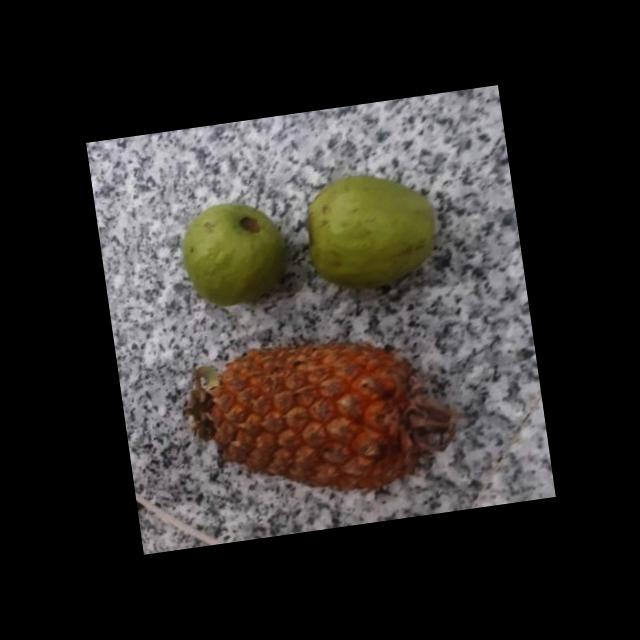guava: (304, 159, 441, 299), (174, 190, 292, 310)
pineapple: (192, 325, 428, 508)
